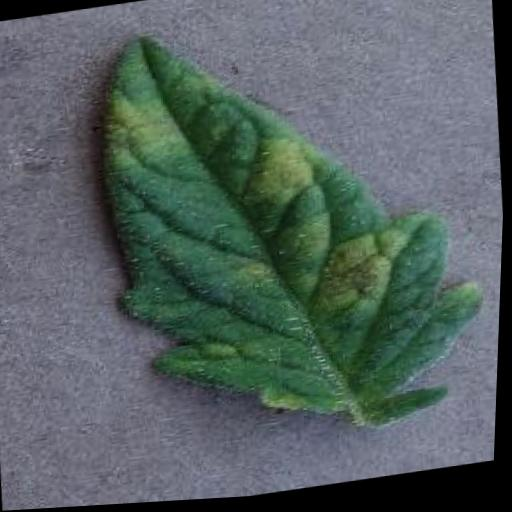Leaf Mold: (90, 0, 500, 467)
